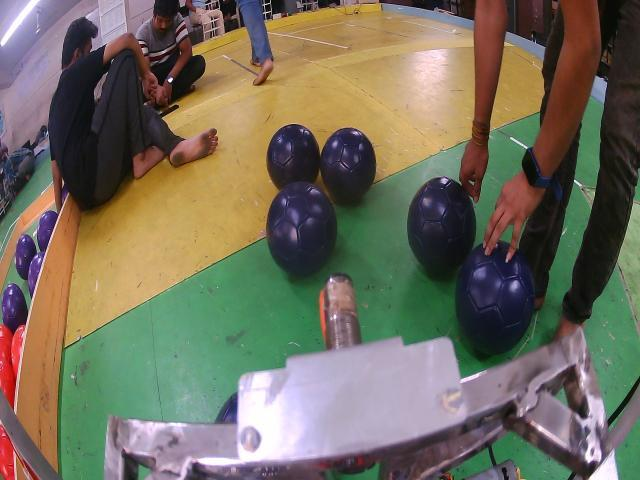jambhalya: (1, 283, 28, 333), (15, 235, 36, 280), (36, 210, 58, 252), (28, 252, 45, 298)
kaalyya: (455, 242, 535, 355), (266, 182, 338, 277), (408, 177, 476, 273), (320, 127, 376, 203), (266, 123, 320, 190), (215, 392, 238, 423)
